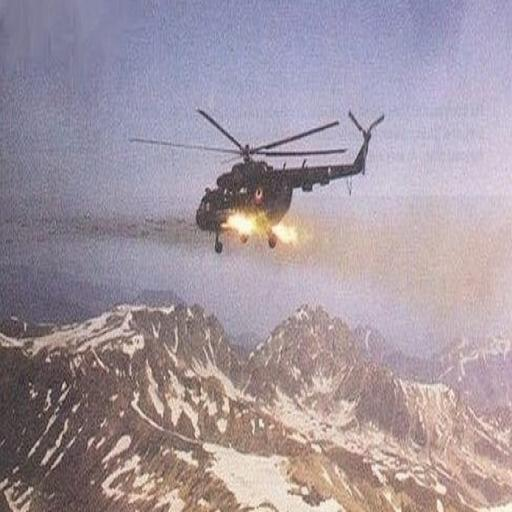helicopter: (127, 96, 394, 257)
